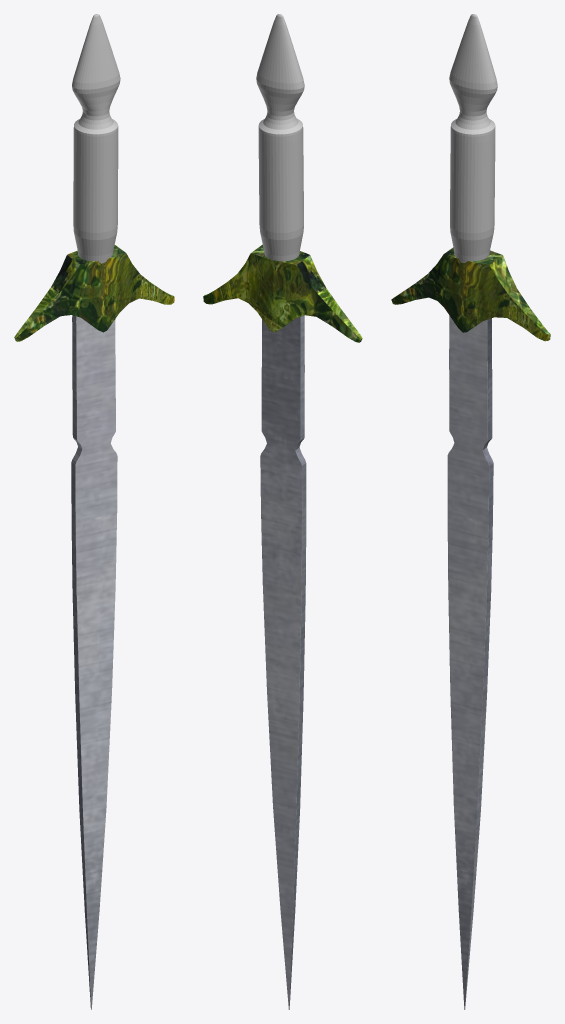
The model's file is sword.obj.
The picture shows the model from 3 angles, left to right: view 1: azimuth 30°, elevation 25°; view 2: azimuth 150°, elevation 25°; view 3: azimuth 330°, elevation 25°; orthographic projection.
Parts seen in each view (by area): view 1: sword_pCube1, handle_sword_handle.JPG, hilt_sword_hilt.jpg; view 2: sword_pCube1, handle_sword_handle.JPG, hilt_sword_hilt.jpg; view 3: sword_pCube1, handle_sword_handle.JPG, hilt_sword_hilt.jpg.
Boxes of the visible parts, x1,y1,x2,y2 form: sword_pCube1: (71, 315, 117, 1009); handle_sword_handle.JPG: (72, 14, 120, 263); hilt_sword_hilt.jpg: (14, 245, 174, 341); sword_pCube1: (260, 315, 306, 1009); handle_sword_handle.JPG: (256, 14, 304, 261); hilt_sword_hilt.jpg: (203, 244, 362, 342); sword_pCube1: (447, 315, 493, 1009); handle_sword_handle.JPG: (449, 14, 497, 262); hilt_sword_hilt.jpg: (391, 247, 550, 341).
Bounding box in the file's own units: 1.3 × 7.77 × 0.3203.
